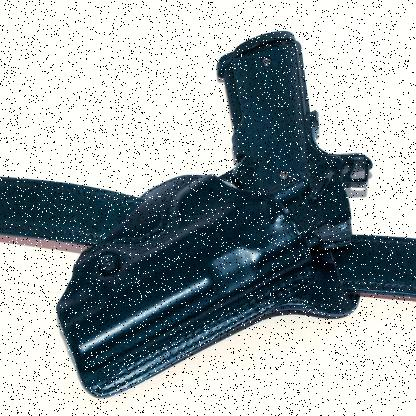pistol: (40, 28, 373, 388)
